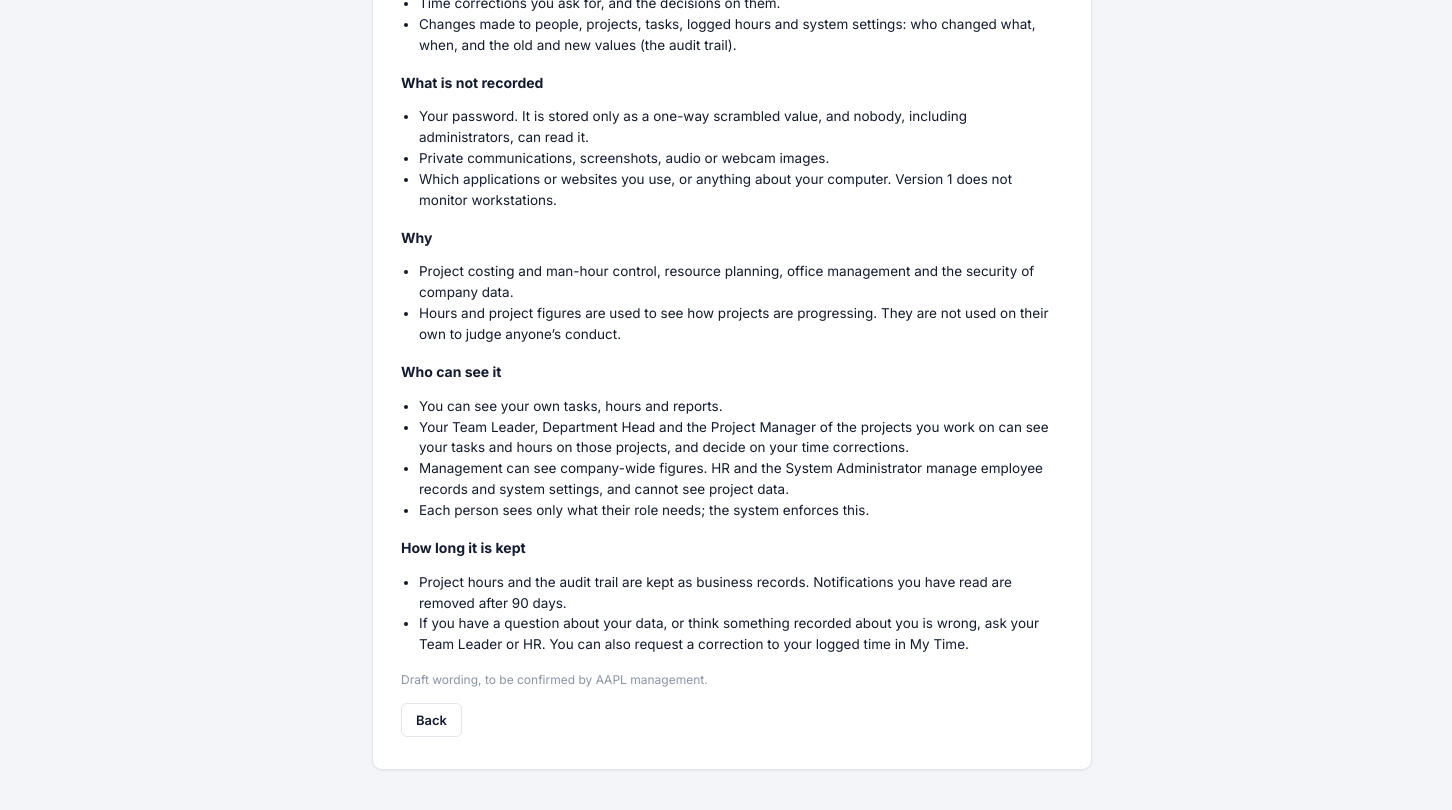
Privacy and data use › goes back to where the reader came from
(page scrolled)
Step 1. Click the button "Back" → click(432, 720), box x1=401 y1=703 x2=462 y2=737
(page scrolled)
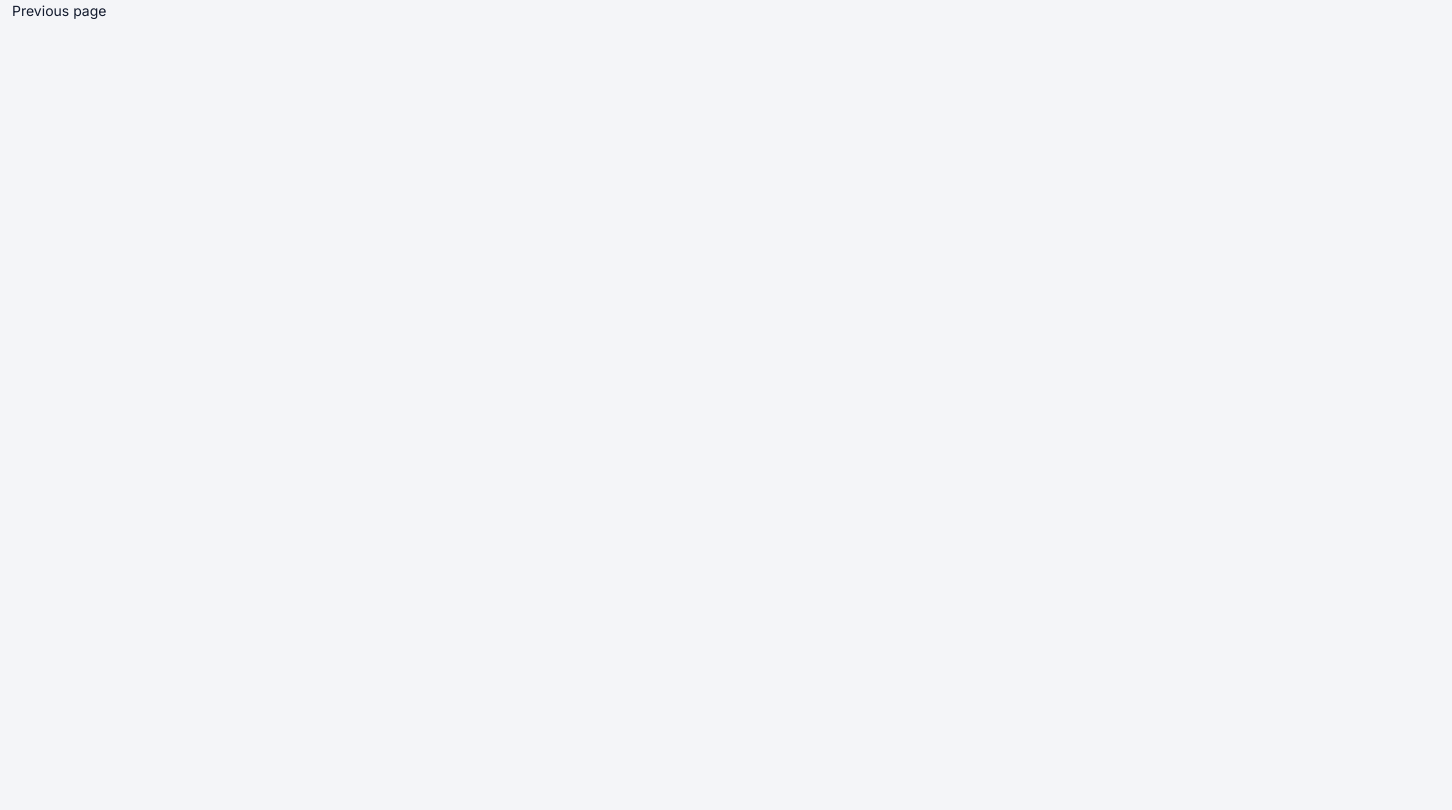
Check: the text "Previous page" is shown, box x1=12 y1=2 x2=106 y2=19
